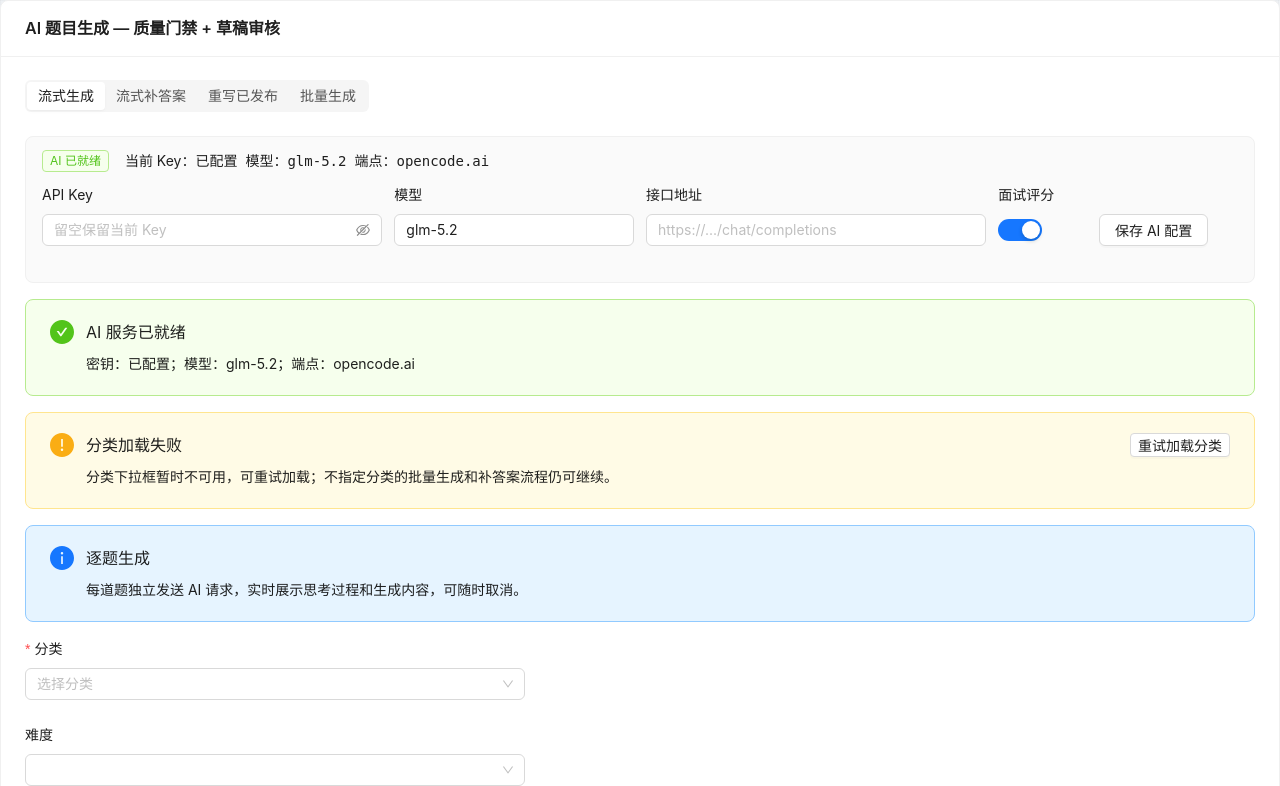
Scenario: AIGenerate category loading › shows a recoverable inline error when category loading fails silently
Expected: the text "分类加载失败" is shown, [86, 435, 182, 455]
Click the button "重试加载分类": (1180, 445) [1130, 433, 1230, 457]
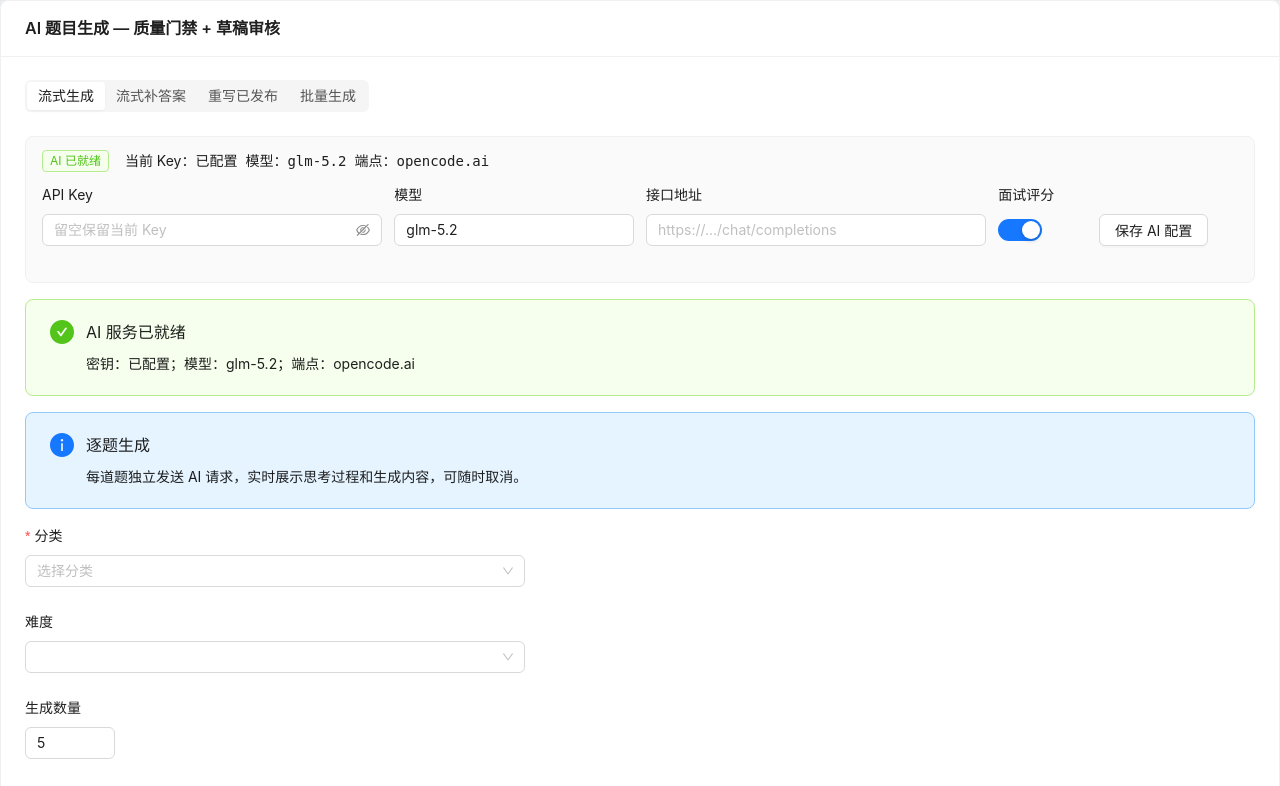
Expected: the text "分类加载失败" is gone
